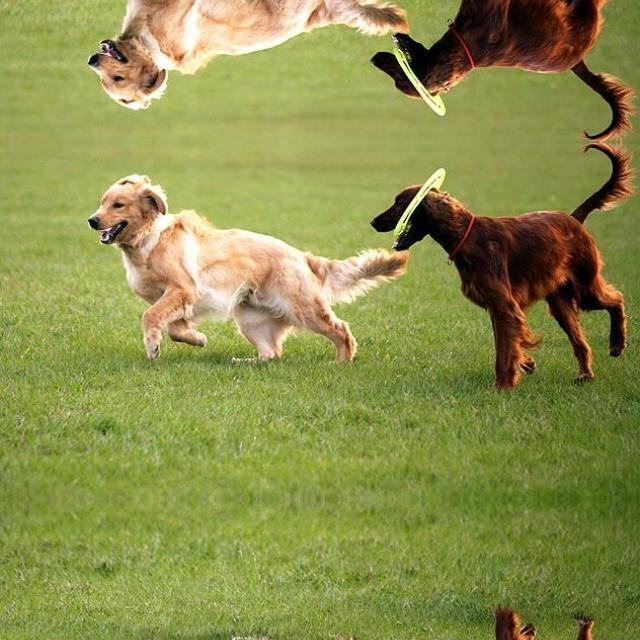dog: (82, 169, 368, 367), (82, 0, 367, 113), (82, 630, 367, 640)
